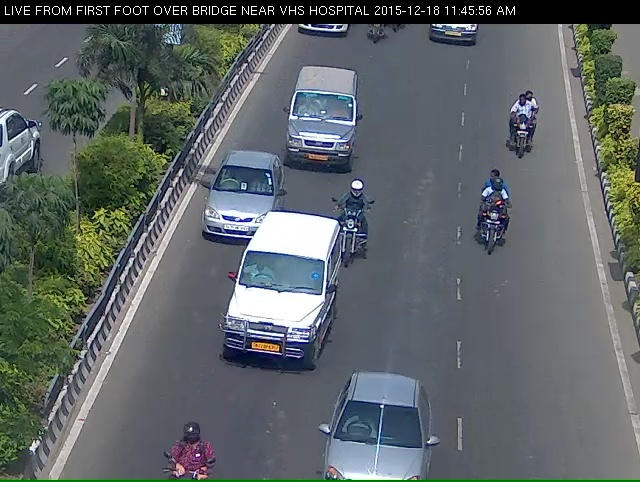Car: (214, 232, 330, 398), (320, 392, 437, 481), (285, 70, 367, 187), (192, 163, 284, 260)
Person: (471, 192, 521, 271), (328, 203, 368, 289), (504, 99, 542, 164)
